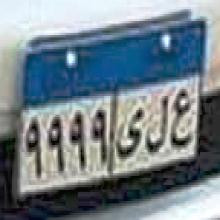9: (23, 115, 44, 185), (67, 109, 86, 177), (89, 105, 108, 171), (46, 113, 65, 179)
ain: (170, 88, 194, 152)
laam: (145, 92, 169, 162)
yaa: (116, 105, 143, 165)
